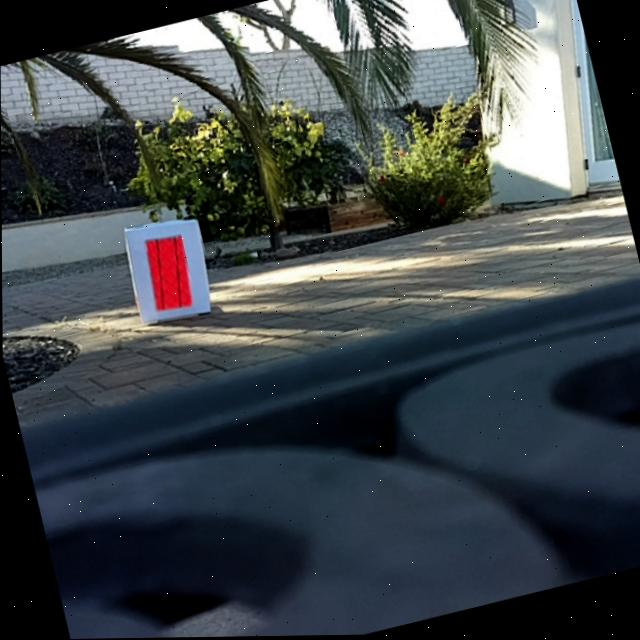led: (140, 232, 197, 315)
